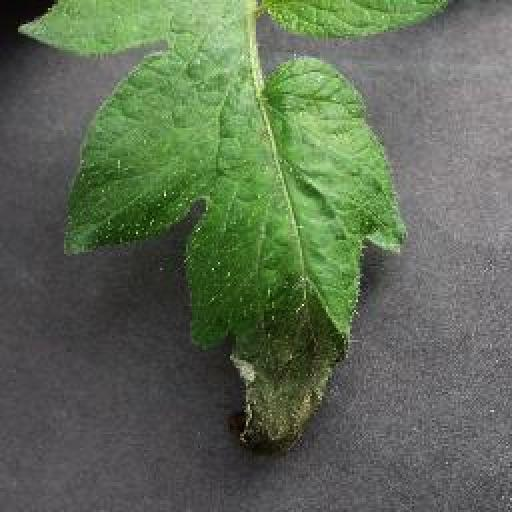disease_tomato: (18, 0, 410, 460)
